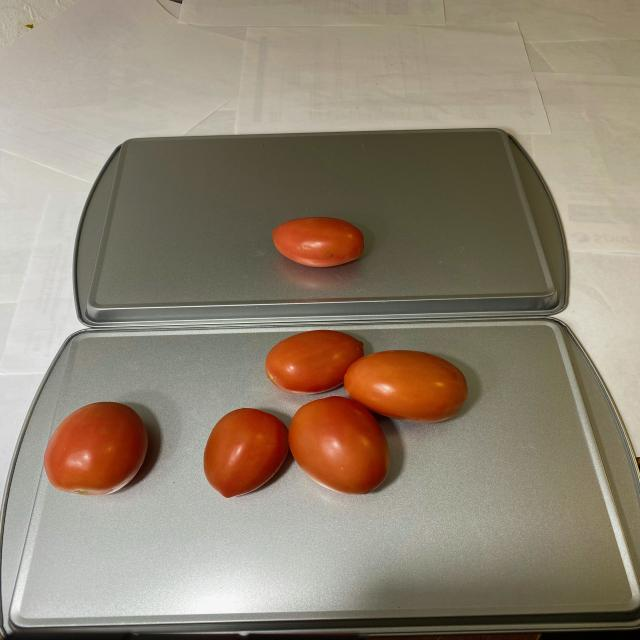tomato: (198, 333, 471, 499), (38, 399, 152, 505), (264, 218, 372, 272)
